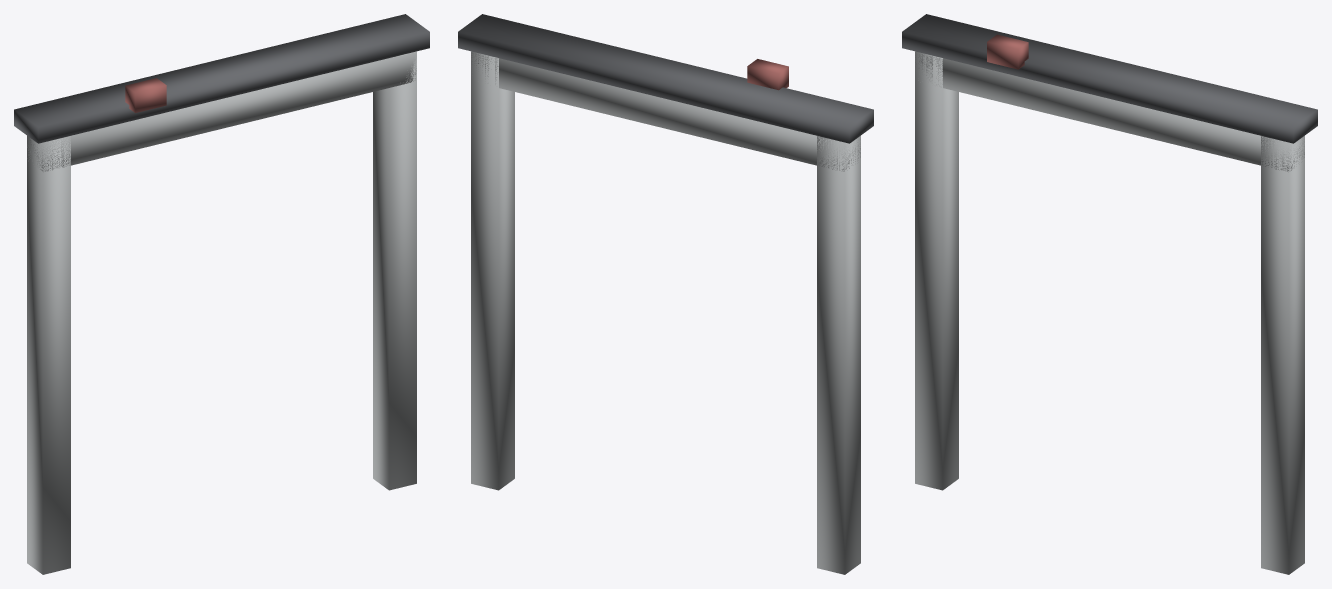
The model's file is doorway_fire_rated_w182_h220_d16.glb.
3 renders of one model, left to right at view 1: azimuth 30°, elevation 25°; view 2: azimuth 150°, elevation 25°; view 3: azimuth 330°, elevation 25°, orthographic.
Visible parts, largest first — view 1: world; view 2: world; view 3: world.
Boxes of the visible parts, x1,y1,x2,y2 form: world: (14, 14, 429, 574); world: (458, 14, 873, 574); world: (902, 14, 1317, 574).
Bounding box in the file's own units: 2.24 × 2.57 × 0.3.
